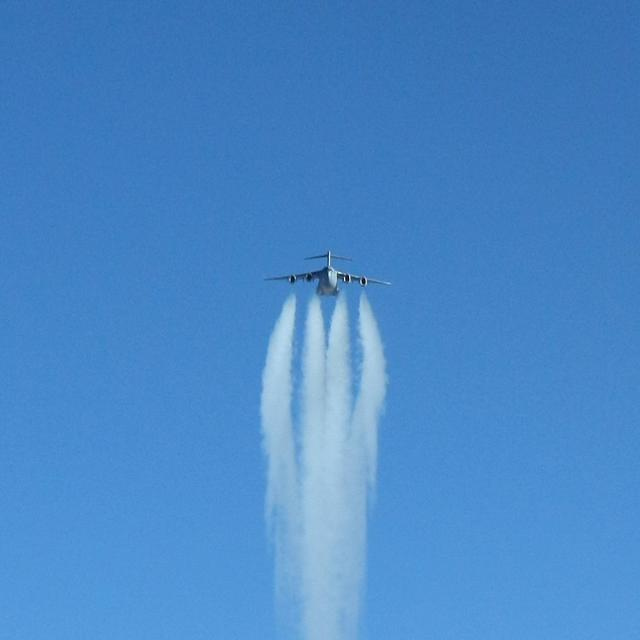MIL_Plane: (262, 266, 392, 274)
